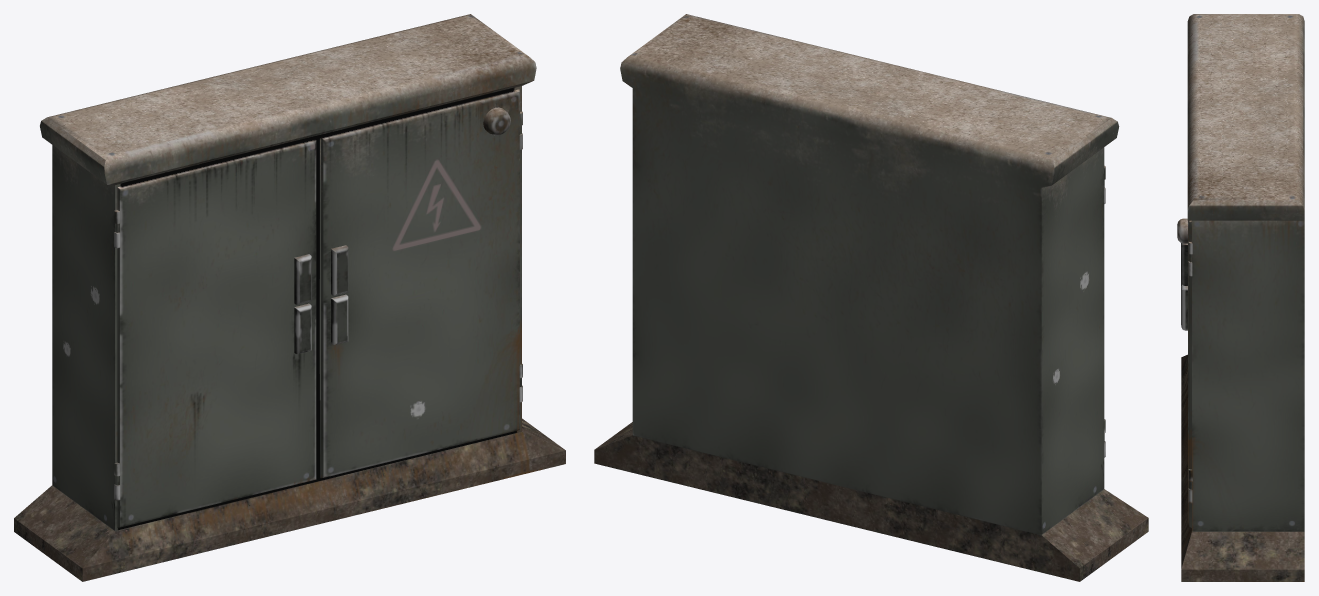
The model's file is electricbox2.fbx.
3 renders of one model, left to right at view 1: azimuth 30°, elevation 25°; view 2: azimuth 150°, elevation 25°; view 3: azimuth 270°, elevation 25°, orthographic. The views are drawn at different scales.
Parts seen in each view (by area): view 1: defaultMaterial; view 2: defaultMaterial; view 3: defaultMaterial.
Boxes of the visible parts, x1,y1,x2,y2 form: defaultMaterial: (14,14,565,581); defaultMaterial: (594,14,1148,581); defaultMaterial: (1177,14,1304,581).
Bounding box in the file's own units: 200 × 163 × 50.72.
1 material, 1 textured.
